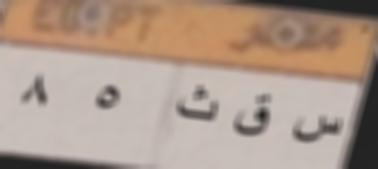5: (88, 78, 136, 117)
8: (14, 66, 52, 111)
qaaf: (232, 92, 277, 140)
seen: (288, 104, 352, 147)
thaa: (175, 83, 223, 126)
